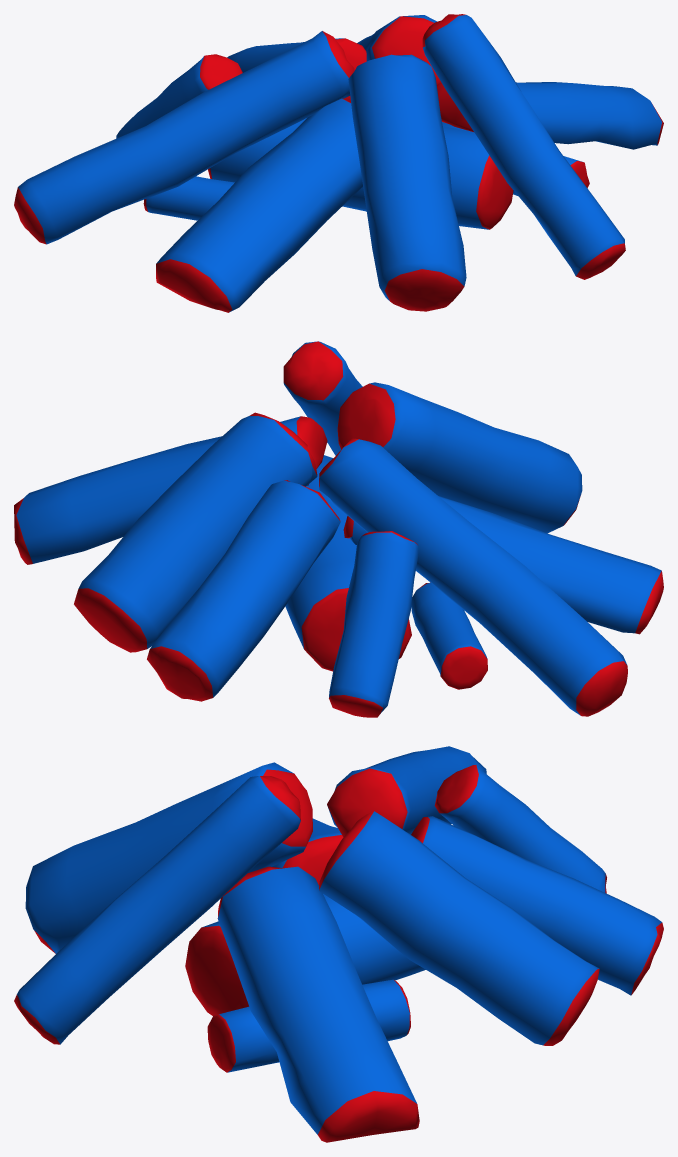
Rendered from bonfire_lp.fbx.
3 renders of one model, top to bottom at view 1: azimuth 30°, elevation 25°; view 2: azimuth 150°, elevation 25°; view 3: azimuth 270°, elevation 25°, orthographic. The views are drawn at different scales.
Visible parts, largest first — view 1: 4_lp; view 2: 4_lp; view 3: 4_lp.
Boxes of the visible parts, left/top/right/bottom form: 4_lp: left=14, top=14, right=663, bottom=312; 4_lp: left=14, top=341, right=663, bottom=717; 4_lp: left=14, top=746, right=663, bottom=1142.
Size of the model in its own units: 94.44 by 31.26 by 76.83.
